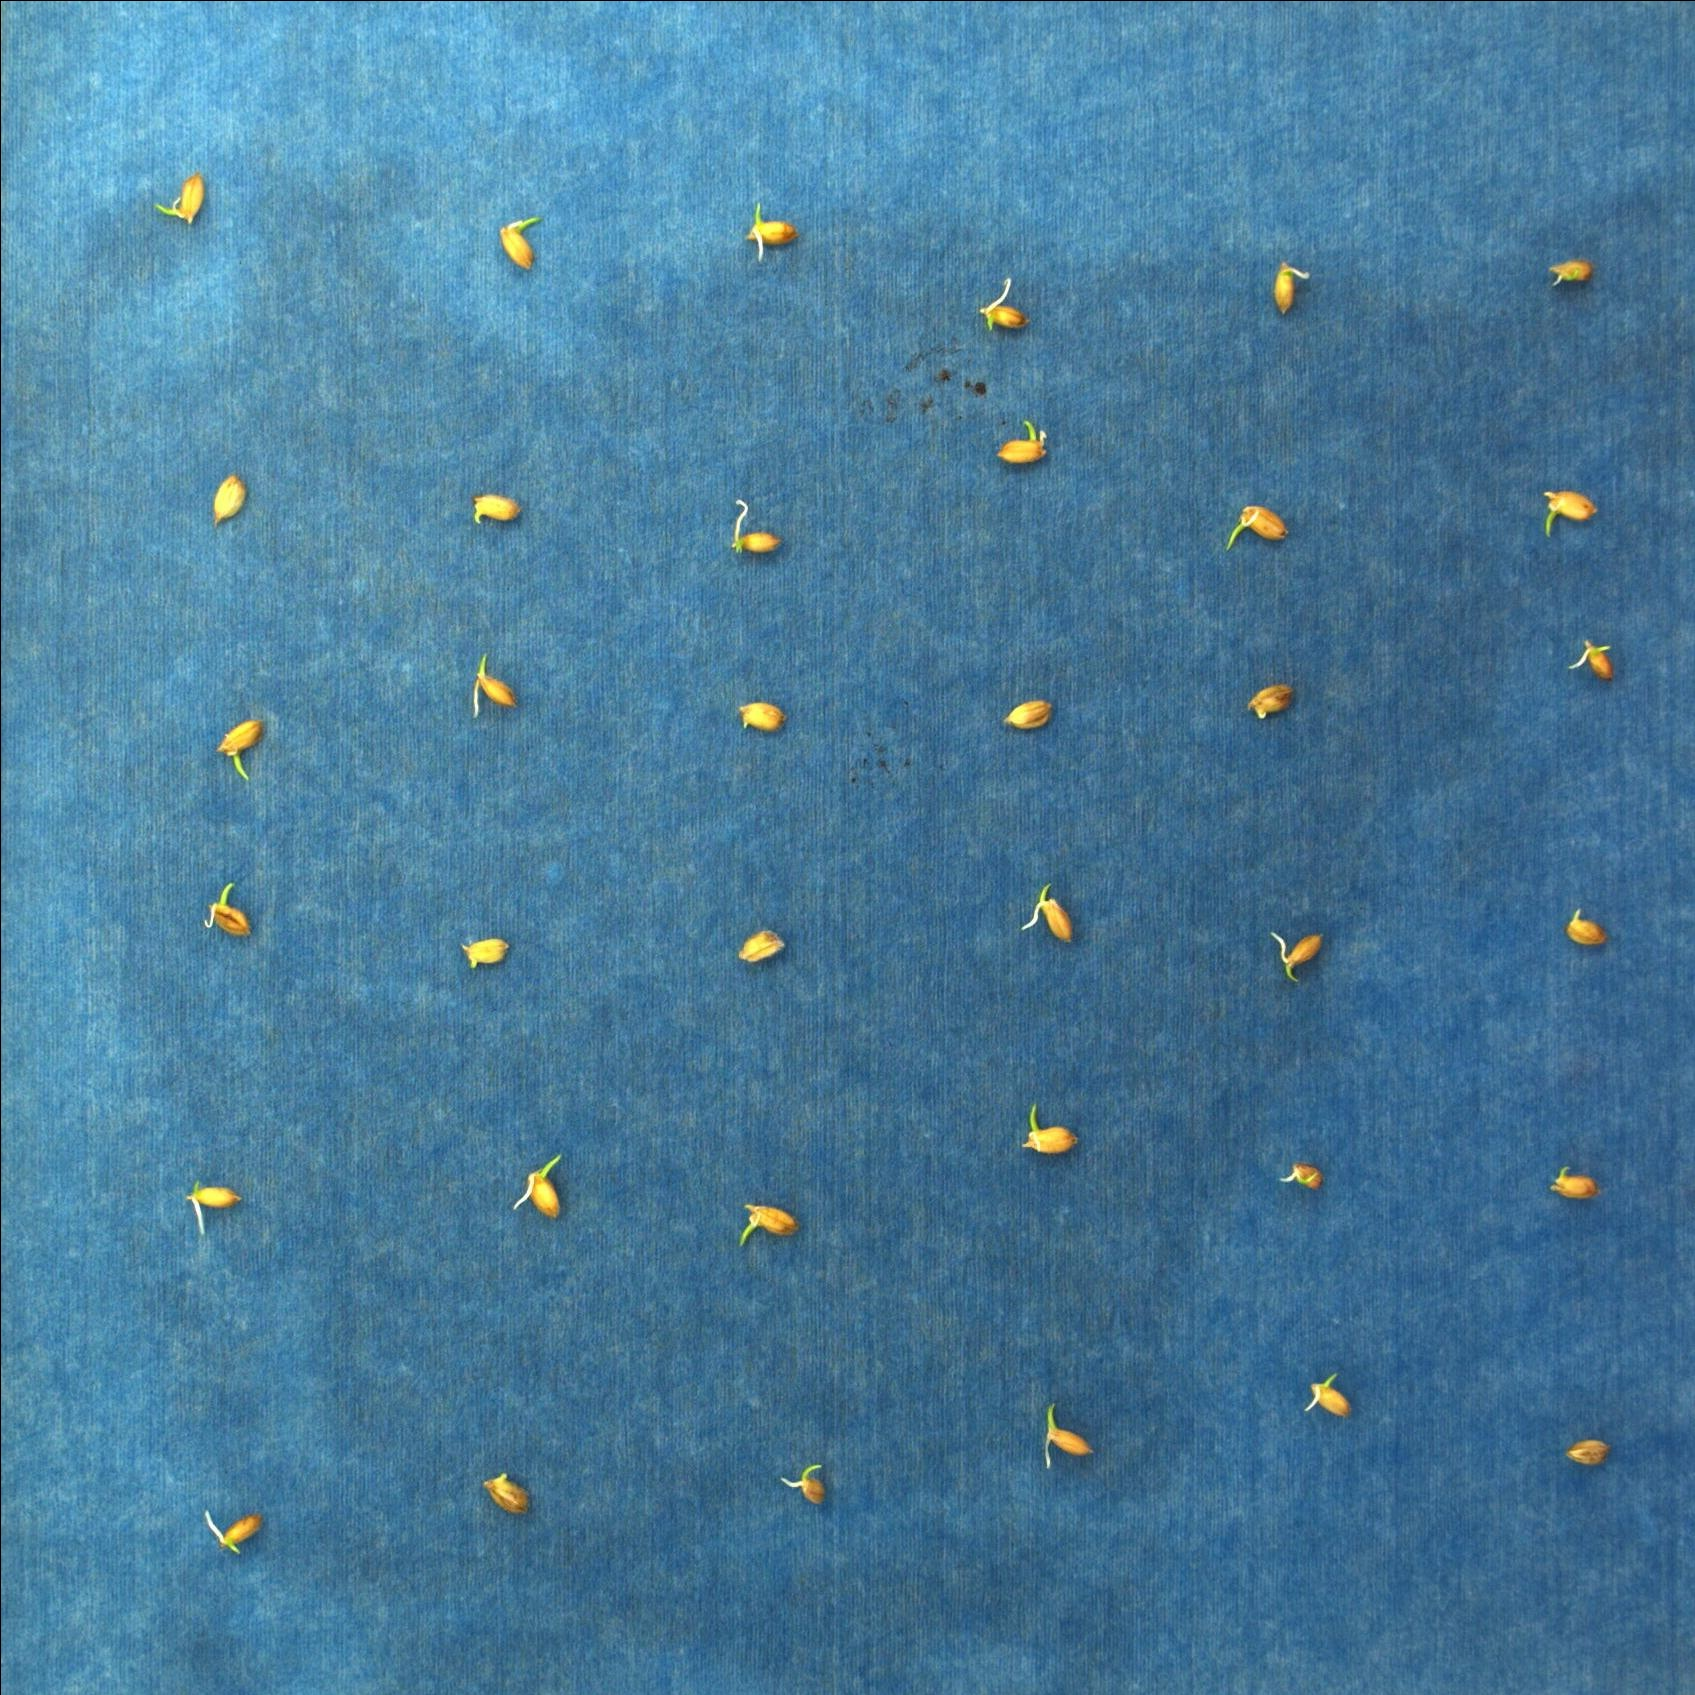not sprout: (200, 1506, 269, 1554), (979, 276, 1035, 334), (734, 494, 785, 554), (185, 1180, 241, 1232), (1569, 635, 1620, 688), (483, 1471, 532, 1518), (1304, 1372, 1354, 1419), (1271, 258, 1313, 312), (208, 473, 247, 531), (737, 700, 792, 736), (1004, 697, 1055, 733), (1566, 906, 1611, 947), (1251, 683, 1298, 722), (473, 490, 522, 528), (459, 934, 511, 969), (739, 928, 785, 965), (1551, 1166, 1600, 1200), (1548, 255, 1596, 286), (1563, 1437, 1613, 1465), (1279, 1159, 1326, 1187)
sprout: (1021, 882, 1079, 947), (515, 1152, 565, 1225), (213, 716, 265, 781), (1042, 1403, 1094, 1468), (1225, 503, 1291, 554), (737, 1198, 804, 1248), (747, 200, 799, 261), (470, 652, 514, 723), (1023, 1104, 1083, 1155), (1543, 484, 1599, 539), (203, 882, 258, 938), (1270, 928, 1326, 983), (152, 171, 205, 227), (997, 414, 1049, 469), (497, 216, 546, 272), (779, 1464, 830, 1510)
